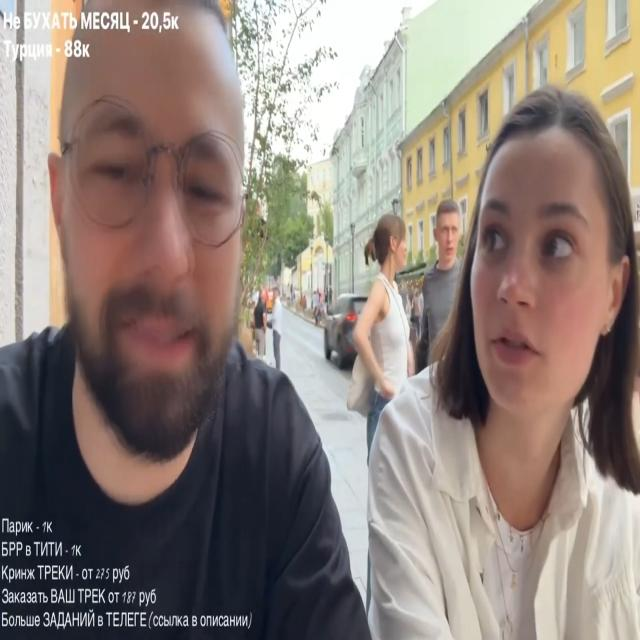Person: (0, 36, 363, 639), (363, 87, 640, 640), (346, 206, 418, 468), (418, 202, 466, 368)
